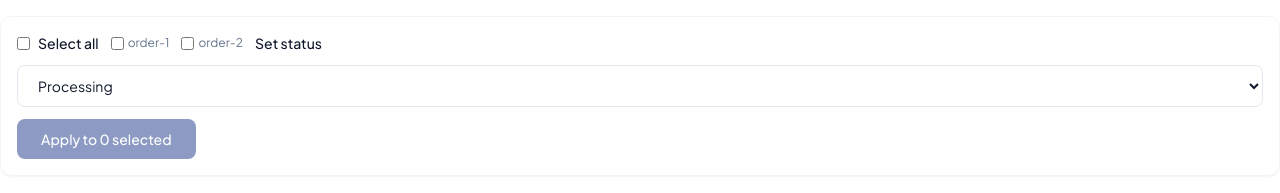
Test case: BulkOrderActions › select all checks every order and Select all label reflects it
What coordinates should you click on to do the following:
click the checkbox named "Select all orders"
I would click on:
 (24, 43)
Its box is [17,36,30,50].
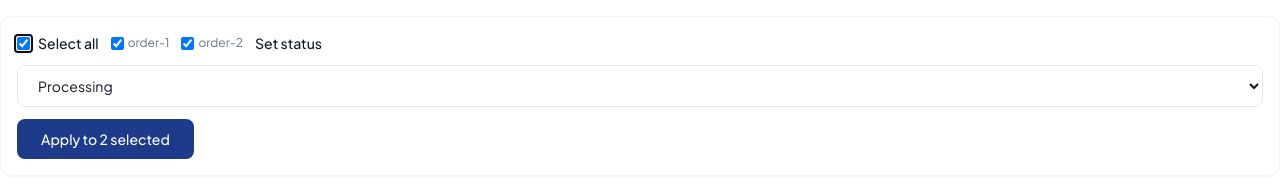
Now the checkbox named "Select order order-1" is checked, box [111,36,124,50]
Now the checkbox named "Select order order-2" is checked, box [182,36,194,50]
Now the button "Apply to 2 selected" is shown, box [17,119,194,159]
